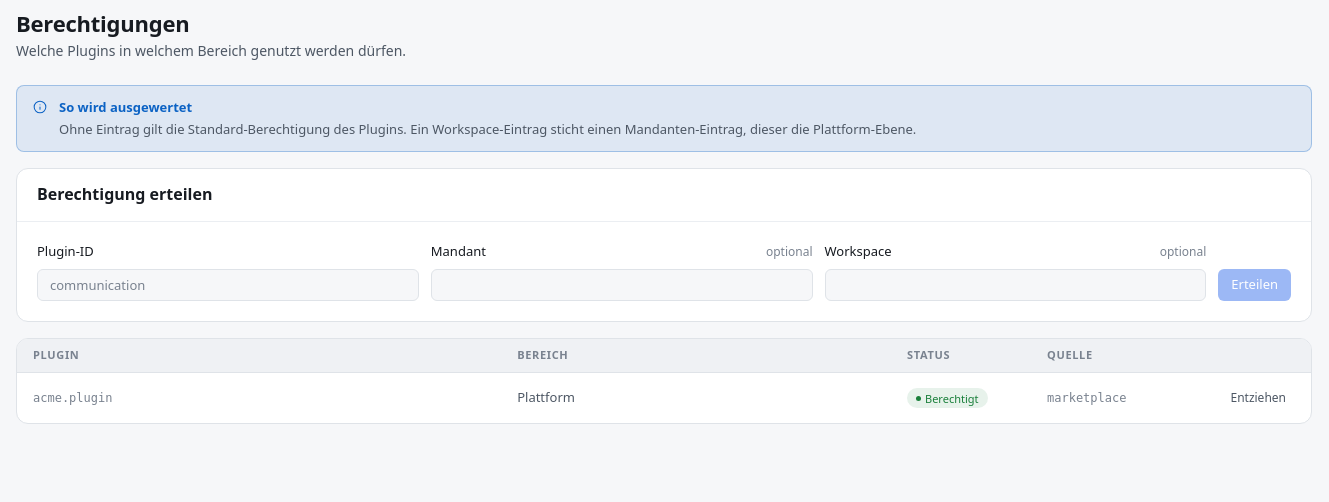
Test case: EntitlementsListView › aborts a grant when a before-grant hook cancels
Type "new.plugin" into the field named "pluginId".
click(228, 285); type("new.plugin")  # box [50,270,406,300]
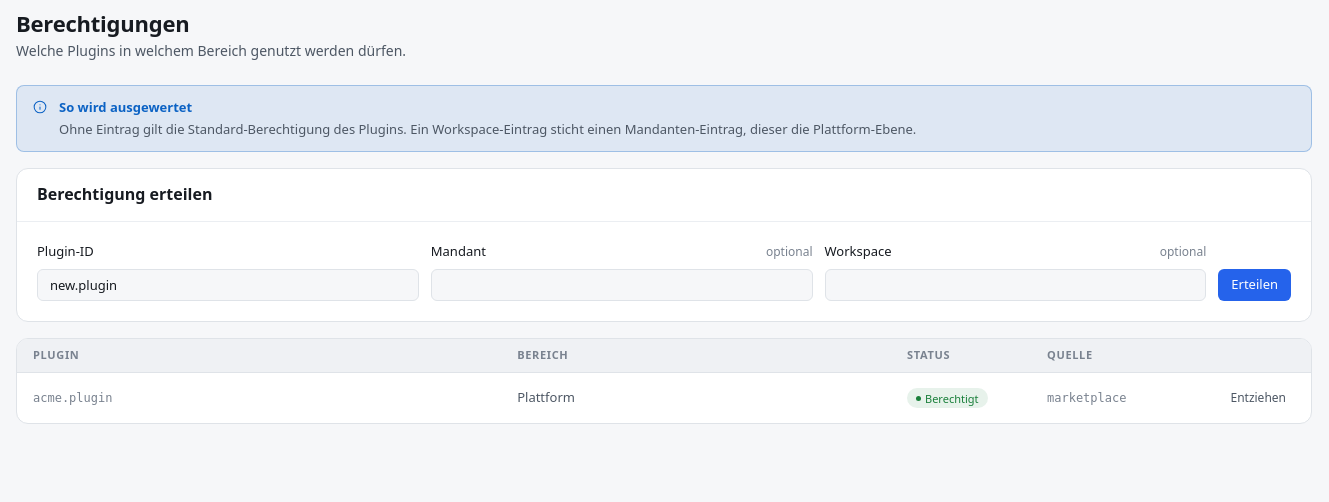
Submit the form with class "entitlements__form", box [37,242,1291,301]
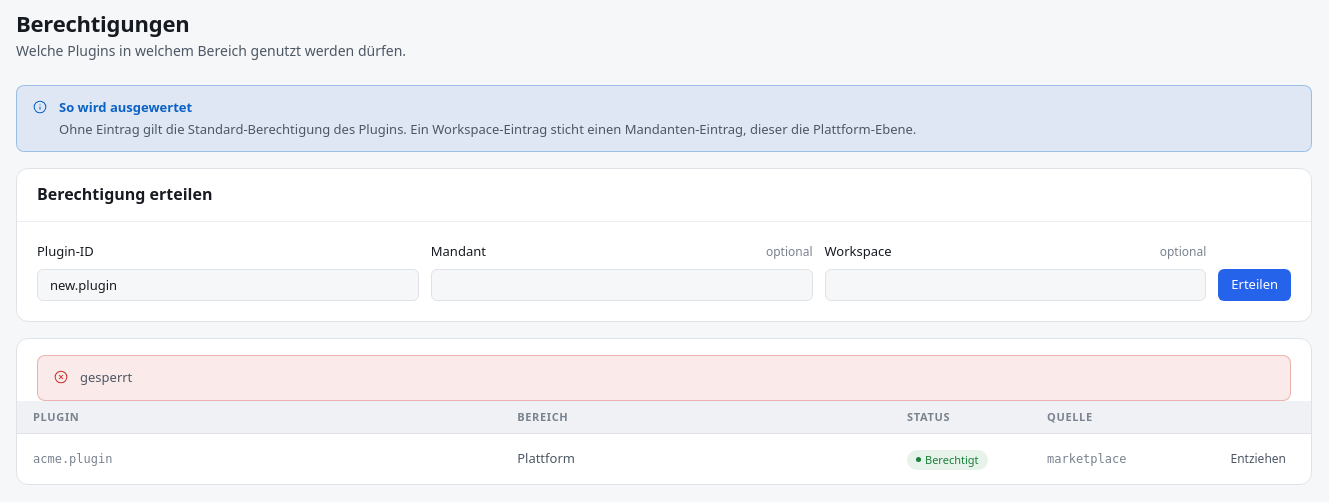
expect the text "gesperrt" is shown: met, box [80,368,132,386]
